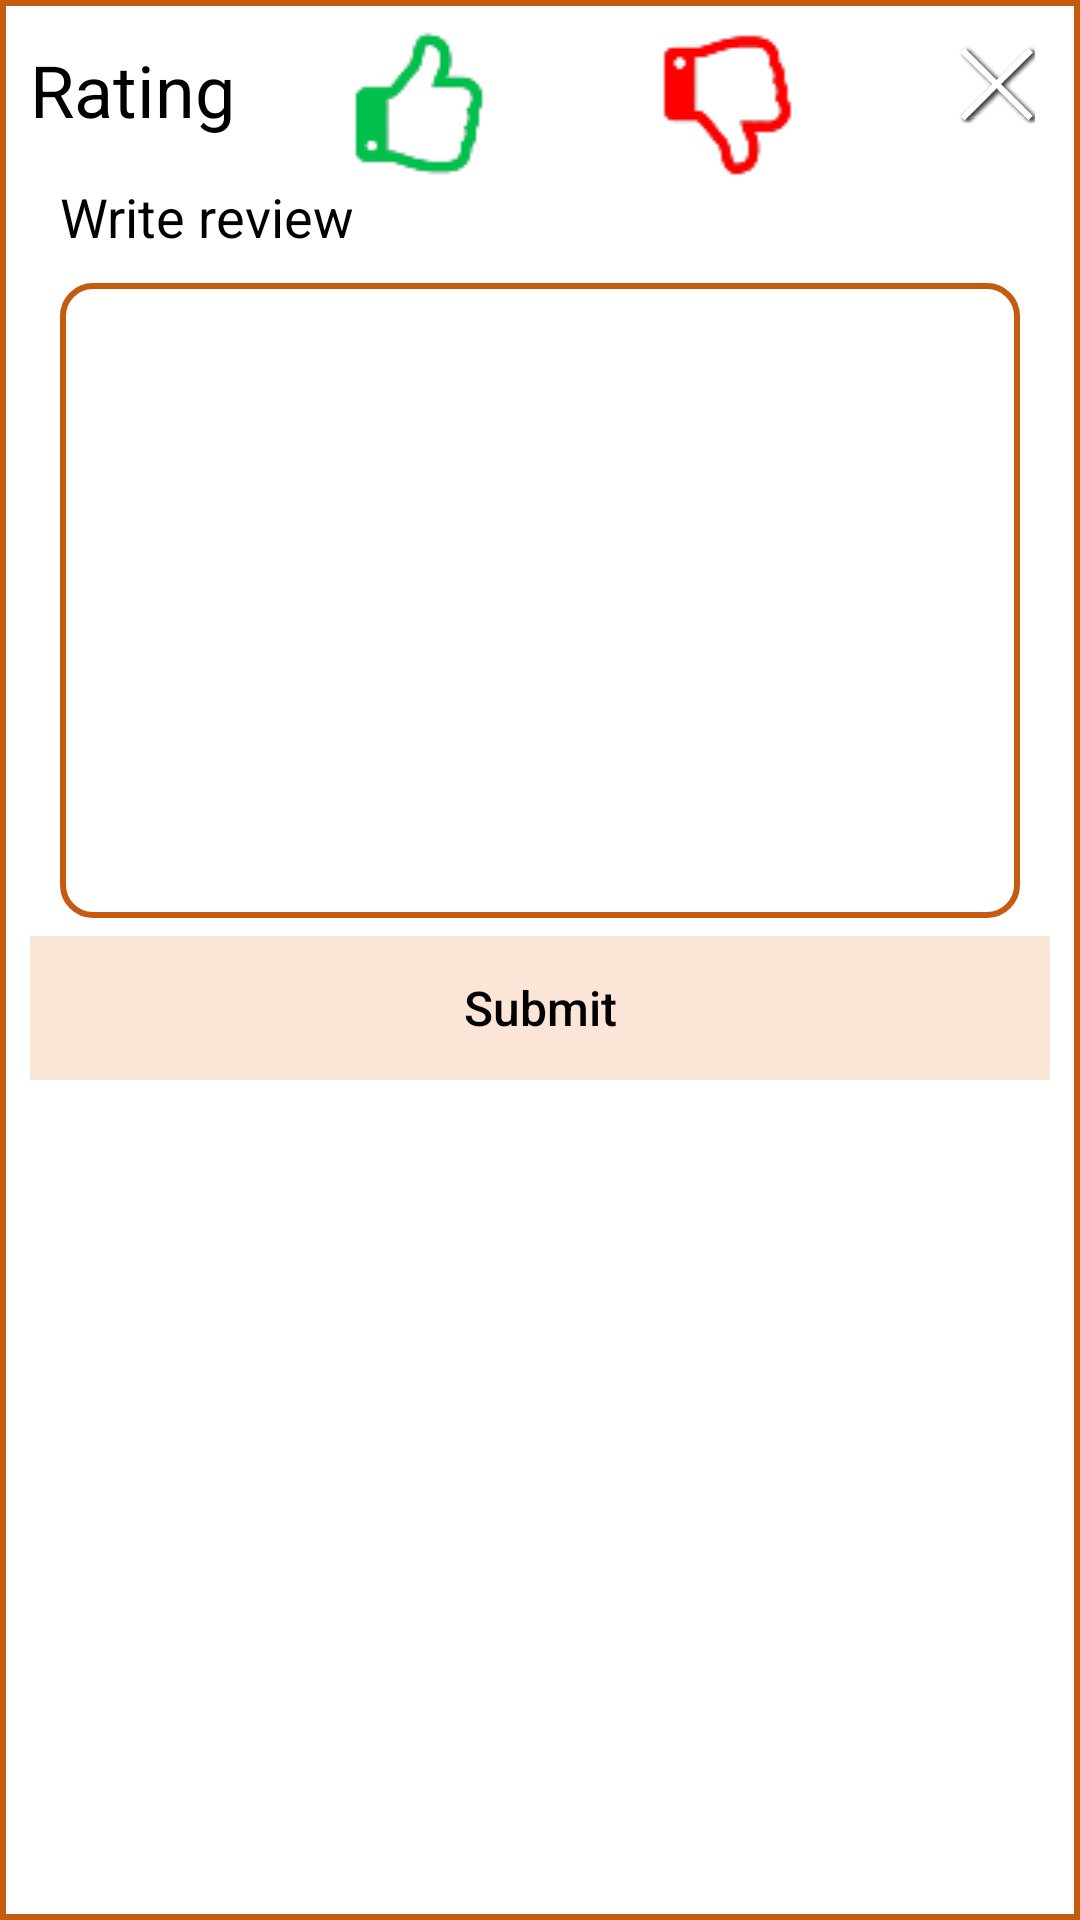

Point at icon controls on the screen. Image size 1080 × 1920, points as point (x, y).
bad: point (727, 105)
good: point (419, 103)
